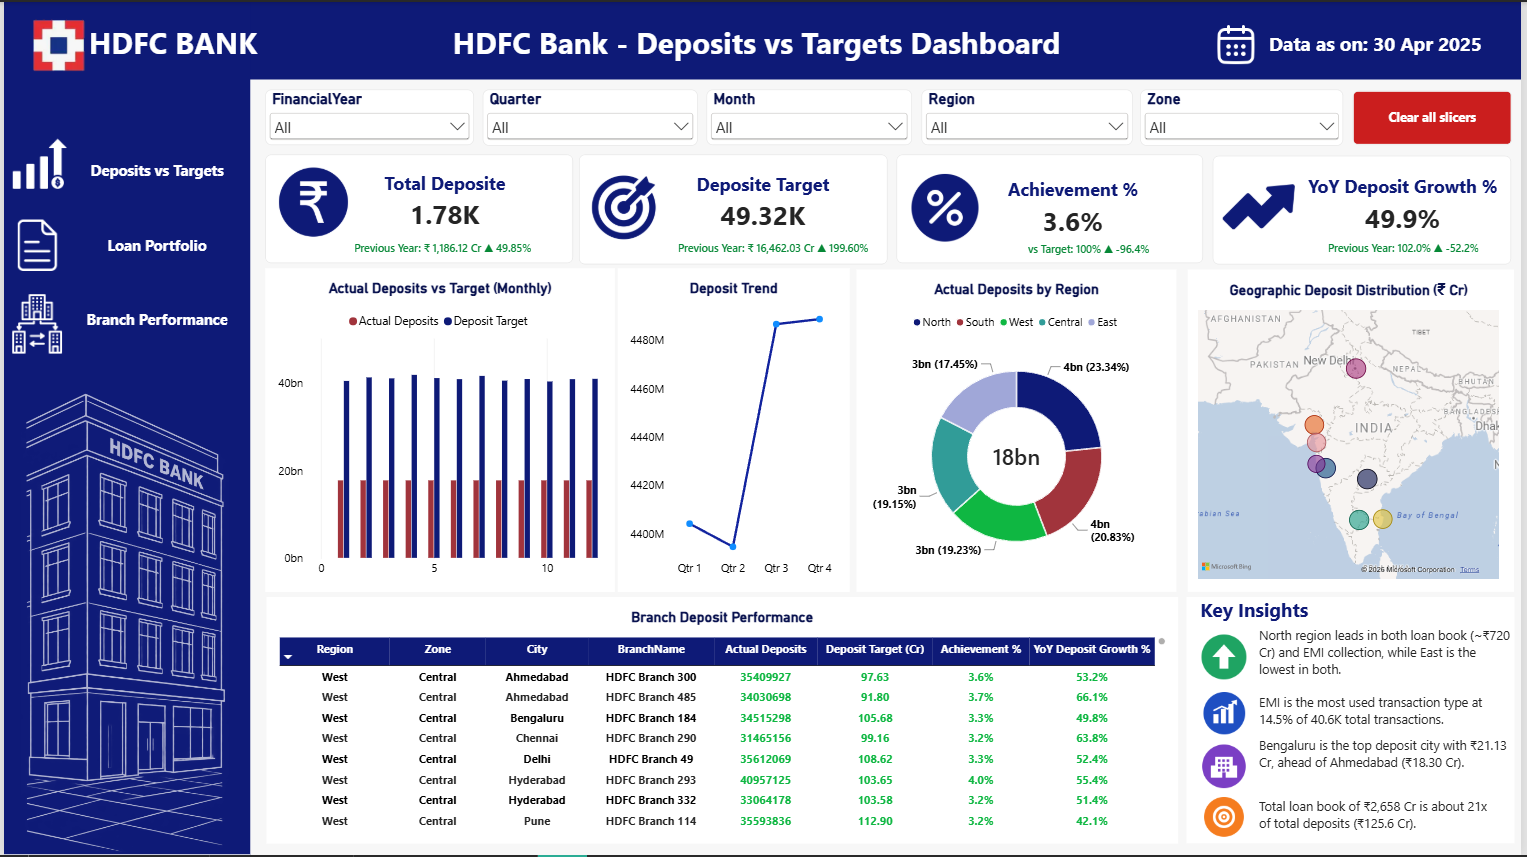

The dashboard page shown, as its layout file describes it:
{"tool":"powerbi","page":{"name":" Deposits vs Targets","canvas":[1920,1080],"ordinal":0},"visuals":[{"type":"shape","box":[12.7,0,1907.6,98.1],"z":0},{"type":"shape","box":[0,0,311.6,1078.7],"z":1000},{"type":"image","box":[13,426.3,281.3,653.6],"z":2000},{"type":"image","box":[12.7,0,117,110.7],"z":3000,"group":"g1"},{"type":"textbox","box":[567.7,25.3,784.5,60.1],"z":3000},{"type":"textbox","box":[107.6,25.3,237.3,60.1],"z":4000,"group":"g1"},{"type":"slicer","fields":{"Values":["DimDate.Year"]},"box":[330,111,264,70],"z":4000},{"type":"slicer","fields":{"Values":["DimDate.Month"]},"box":[889,111,260,70],"z":5000},{"type":"image","box":[1516.9,25.3,83.8,60.1],"z":6000,"group":"g3"},{"type":"slicer","fields":{"Values":["DimBranch.Region"]},"box":[1161,111,267,70],"z":6000},{"type":"textbox","box":[1600.7,36.4,295.8,49],"z":7000,"group":"g3"},{"type":"slicer","fields":{"Values":["DimBranch.Zone"]},"box":[1438,110,257,71],"z":7000},{"type":"slicer","fields":{"Values":["DimDate.Quarter"]},"box":[606,111,272,71],"z":8000},{"type":"image","box":[9.5,170.8,71.2,68],"z":8000,"group":"g2"},{"type":"shape","box":[330.6,193,389.2,137.7],"z":9000},{"type":"image","box":[3.2,368.5,77.5,77.5],"z":9000,"group":"g2"},{"type":"shape","box":[727.6,193,390.7,139.2],"z":10000},{"type":"image","box":[12.7,275.2,79.1,69.6],"z":10000,"group":"g2"},{"type":"pageNavigator","box":[91.8,170.8,204,275.2],"z":11000,"group":"g2"},{"type":"shape","box":[1130,193.8,387.7,137.7],"z":11000},{"type":"shape","box":[1529.2,193.8,377.7,137.7],"z":12000},{"type":"cardVisual","fields":{"Data":["BranchDepositTargets.Total Deposits (Cr)"]},"box":[462.5,205,192.5,92.5],"z":13000},{"type":"cardVisual","fields":{"Data":["BranchDepositTargets.Previous Year + Growth"]},"box":[427.7,283.1,276.2,54.6],"z":14000},{"type":"image","box":[345,205,93.8,95],"z":15000},{"type":"cardVisual","fields":{"Data":["BranchDepositTargets.Deposit Target (Cr)"]},"box":[858.8,207.5,203.8,92.5],"z":16000},{"type":"cardVisual","fields":{"Data":["BranchDepositTargets.Target Previous Year + Growth"]},"box":[836.2,292.5,282.5,35],"z":17000},{"type":"cardVisual","fields":{"Data":["BranchDepositTargets.Achievement %"]},"box":[1241.2,216.2,222.5,87.5],"z":18000},{"type":"cardVisual","fields":{"Data":["BranchDepositTargets.Achievement Subtitle kpi-3"]},"box":[1280,295,212.5,32.5],"z":19000},{"type":"cardVisual","fields":{"Data":["BranchDepositTargets.YoY Deposit Growth %"]},"box":[1633.8,221.2,272.5,71.2],"z":20000},{"type":"cardVisual","fields":{"Data":["BranchDepositTargets.YoY Deposit Growth Subtitle"]},"box":[1658.8,297.5,238.8,27.5],"z":21000},{"type":"image","box":[1542.5,208.8,91.2,101.2],"z":22000},{"type":"image","box":[1148.8,210,85,100],"z":23000},{"type":"image","box":[742.5,210,85,98.8],"z":24000},{"type":"group","id":"g1","title":"Group 1","box":[12.7,0,332.2,110.7],"z":25000},{"type":"group","id":"g2","title":"Group 2","box":[3.2,170.8,292.6,275.2],"z":26000},{"type":"group","id":"g3","title":"Group 3","box":[1516.9,25.3,379.6,60.1],"z":27000},{"type":"clusteredColumnChart","title":"Actual Deposits vs Target (Monthly)","fields":{"Category":["BranchDepositTargets.Month"],"Y":["BranchDepositTargets.Actual Deposits","BranchDepositTargets.Deposit Target"]},"box":[330,337.3,442,409.3],"z":28000},{"type":"lineChart","title":"Deposit Trend ","fields":{"Category":["DimDate.Date.Variation.Date Hierarchy.Quarter"],"Y":["BranchDepositTargets.Actual Deposits"]},"box":[776.7,337.3,293.3,409.3],"z":29000},{"type":"donutChart","fields":{"Category":["DimBranch.Region"],"Y":["BranchDepositTargets.Actual Deposits"]},"box":[1078,338,405,408],"z":30000},{"type":"tableEx","title":"Branch Deposit Performance","fields":{"Values":["DimBranch.Region","DimBranch.Zone","DimBranch.City","DimBranch.BranchName","BranchDepositTargets.Actual Deposits","BranchDepositTargets.Deposit Target (Cr)","BranchDepositTargets.Achievement %","BranchDepositTargets.YoY Deposit Growth %"]},"box":[331.7,753.3,1153.3,311.7],"z":31000},{"type":"shape","box":[1496.7,753.3,415,311.7],"z":32000},{"type":"shape","box":[1497.7,338.4,413.1,408.2],"z":33000},{"type":"map","title":"Geographic Deposit Distribution (₹ Cr)","fields":{"Category":["DimBranch.City"],"Size":["BranchDepositTargets.Actual Deposits"]},"box":[1495,338.3,413.3,406.7],"z":34000},{"type":"textbox","box":[1513.3,753.3,230,46.7],"z":35000},{"type":"textbox","box":[1588.3,790,318.3,83.3],"z":36000},{"type":"textbox","box":[1588.3,875,320,60],"z":37000},{"type":"textbox","box":[1588.3,928.3,318.3,78.3],"z":38000},{"type":"textbox","box":[1588.3,1006.7,306.7,58.3],"z":39000},{"type":"image","box":[1513.3,800,60,56.7],"z":40000},{"type":"image","box":[1506.7,873.3,73.3,53.3],"z":41000},{"type":"image","box":[1513.3,940,60,55],"z":42000},{"type":"image","box":[1510,1006.7,66.7,50],"z":43000},{"type":"actionButton","box":[1706.7,112,201.3,68.7],"z":43001}]}

Visuals, with their boxes in screenshot pixels (x1, y1, x2, y2), scaled from the page's 1920x1080 canvas onto the 1527x857 screenshot:
shape: x1=10 y1=0 x2=1526 y2=78
shape: x1=0 y1=0 x2=248 y2=856
image: x1=10 y1=338 x2=234 y2=856
image: x1=10 y1=0 x2=103 y2=88
textbox: x1=451 y1=20 x2=1075 y2=68
textbox: x1=86 y1=20 x2=274 y2=68
slicer - DimDate.Year: x1=262 y1=88 x2=472 y2=144
slicer - DimDate.Month: x1=707 y1=88 x2=914 y2=144
image: x1=1206 y1=20 x2=1273 y2=68
slicer - DimBranch.Region: x1=923 y1=88 x2=1136 y2=144
textbox: x1=1273 y1=29 x2=1508 y2=68
slicer - DimBranch.Zone: x1=1144 y1=87 x2=1348 y2=144
slicer - DimDate.Quarter: x1=482 y1=88 x2=698 y2=144
image: x1=8 y1=136 x2=64 y2=189
shape: x1=263 y1=153 x2=572 y2=262
image: x1=3 y1=292 x2=64 y2=354
shape: x1=579 y1=153 x2=889 y2=264
image: x1=10 y1=218 x2=73 y2=274
pageNavigator: x1=73 y1=136 x2=235 y2=354
shape: x1=899 y1=154 x2=1207 y2=263
shape: x1=1216 y1=154 x2=1517 y2=263
cardVisual - BranchDepositTargets.Total Deposits (Cr): x1=368 y1=163 x2=521 y2=236
cardVisual - BranchDepositTargets.Previous Year + Growth: x1=340 y1=225 x2=560 y2=268
image: x1=274 y1=163 x2=349 y2=238
cardVisual - BranchDepositTargets.Deposit Target (Cr): x1=683 y1=165 x2=845 y2=238
cardVisual - BranchDepositTargets.Target Previous Year + Growth: x1=665 y1=232 x2=890 y2=260
cardVisual - BranchDepositTargets.Achievement %: x1=987 y1=172 x2=1164 y2=241
cardVisual - BranchDepositTargets.Achievement Subtitle kpi-3: x1=1018 y1=234 x2=1187 y2=260
cardVisual - BranchDepositTargets.YoY Deposit Growth %: x1=1299 y1=176 x2=1516 y2=232
cardVisual - BranchDepositTargets.YoY Deposit Growth Subtitle: x1=1319 y1=236 x2=1509 y2=258
image: x1=1227 y1=166 x2=1299 y2=246
image: x1=914 y1=167 x2=981 y2=246
image: x1=591 y1=167 x2=658 y2=245
"Group 1" group: x1=10 y1=0 x2=274 y2=88
"Group 2" group: x1=3 y1=136 x2=235 y2=354
"Group 3" group: x1=1206 y1=20 x2=1508 y2=68
"Actual Deposits vs Target (Monthly)" clusteredColumnChart: x1=262 y1=268 x2=614 y2=592
"Deposit Trend " lineChart: x1=618 y1=268 x2=851 y2=592
donutChart - DimBranch.Region x BranchDepositTargets.Actual Deposits: x1=857 y1=268 x2=1179 y2=592
"Branch Deposit Performance" tableEx: x1=264 y1=598 x2=1181 y2=845
shape: x1=1190 y1=598 x2=1520 y2=845
shape: x1=1191 y1=269 x2=1520 y2=592
"Geographic Deposit Distribution (₹ Cr)" map: x1=1189 y1=268 x2=1518 y2=591
textbox: x1=1204 y1=598 x2=1386 y2=635
textbox: x1=1263 y1=627 x2=1516 y2=693
textbox: x1=1263 y1=694 x2=1518 y2=742
textbox: x1=1263 y1=737 x2=1516 y2=799
textbox: x1=1263 y1=799 x2=1507 y2=845
image: x1=1204 y1=635 x2=1251 y2=680
image: x1=1198 y1=693 x2=1257 y2=735
image: x1=1204 y1=746 x2=1251 y2=790
image: x1=1201 y1=799 x2=1254 y2=839
actionButton: x1=1357 y1=89 x2=1517 y2=143
